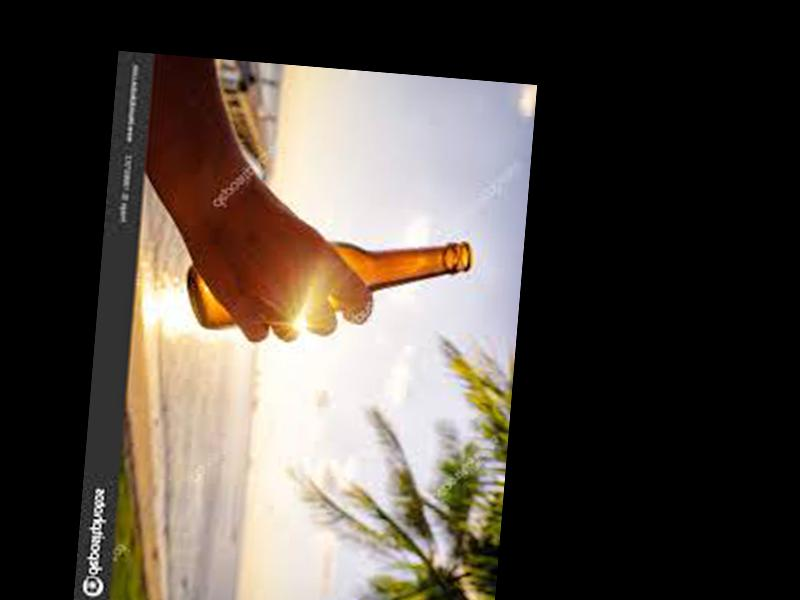Beer: (181, 216, 473, 347)
